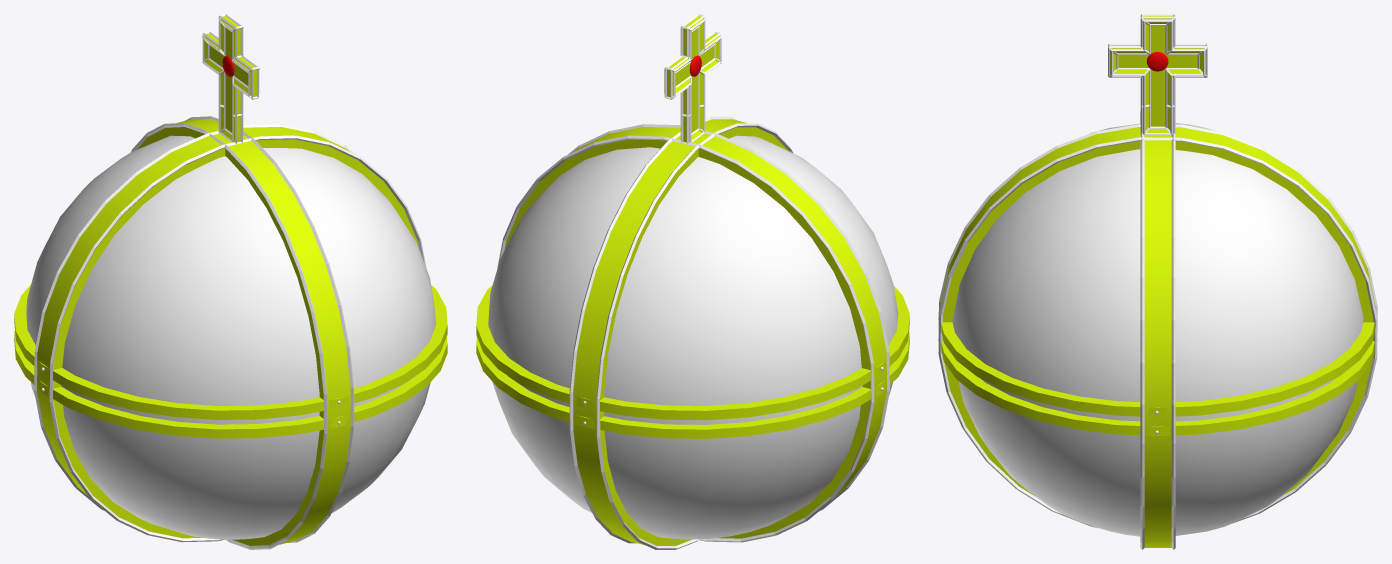
Rendered from HolyHandGranade.FBX.
3 renders of one model, left to right at view 1: azimuth 30°, elevation 25°; view 2: azimuth 150°, elevation 25°; view 3: azimuth 270°, elevation 25°, orthographic.
Visible parts, largest first — view 1: Sphere001, Cylinder004, Cylinder003, Cylinder001, Cylinder002, Cylinder006, Cylinder005, Box001, Box002; view 2: Sphere001, Cylinder004, Cylinder003, Cylinder001, Cylinder002, Cylinder006, Cylinder005, Box001, Box002; view 3: Sphere001, Cylinder004, Cylinder003, Cylinder001, Cylinder005, Cylinder002, Cylinder006, Box001, Box002.
Part boxes in pixels (x1,y1,x2,y2): Sphere001: [26, 135, 436, 539]; Cylinder004: [137, 119, 350, 545]; Cylinder003: [37, 127, 418, 538]; Cylinder001: [14, 285, 447, 419]; Cylinder002: [14, 331, 447, 438]; Cylinder006: [34, 124, 426, 542]; Cylinder005: [131, 116, 354, 549]; Box001: [204, 16, 256, 142]; Box002: [202, 14, 259, 143]; Sphere001: [488, 135, 898, 539]; Cylinder004: [573, 119, 788, 545]; Cylinder003: [504, 127, 886, 538]; Cylinder001: [476, 285, 909, 420]; Cylinder002: [476, 331, 909, 438]; Cylinder006: [497, 124, 889, 542]; Cylinder005: [569, 116, 793, 549]; Box001: [667, 16, 719, 142]; Box002: [664, 14, 721, 143]; Sphere001: [952, 123, 1363, 536]; Cylinder004: [941, 127, 1375, 495]; Cylinder003: [1144, 135, 1171, 547]; Cylinder001: [941, 322, 1374, 417]; Cylinder005: [938, 124, 1377, 527]; Cylinder002: [941, 341, 1374, 436]; Cylinder006: [1140, 112, 1175, 549]; Box001: [1110, 15, 1205, 132]; Box002: [1108, 14, 1207, 135].
Size of the model in its own units: 45.22 by 58.73 by 45.11.
